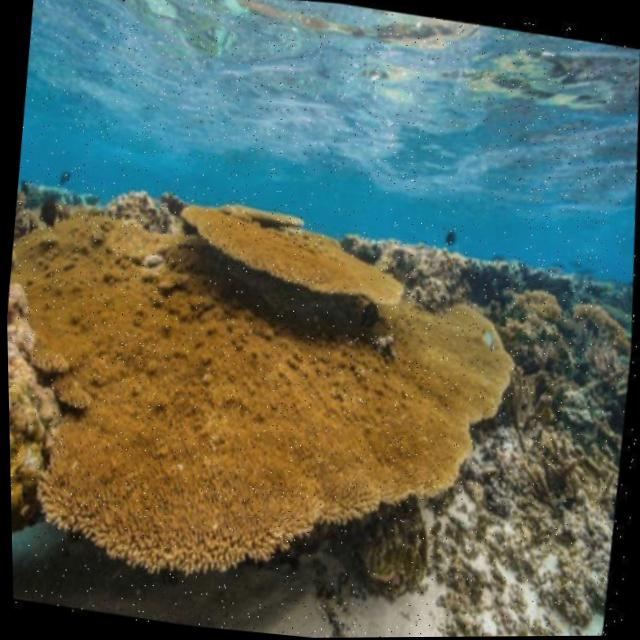Healthy Coral: (3, 182, 557, 639)
